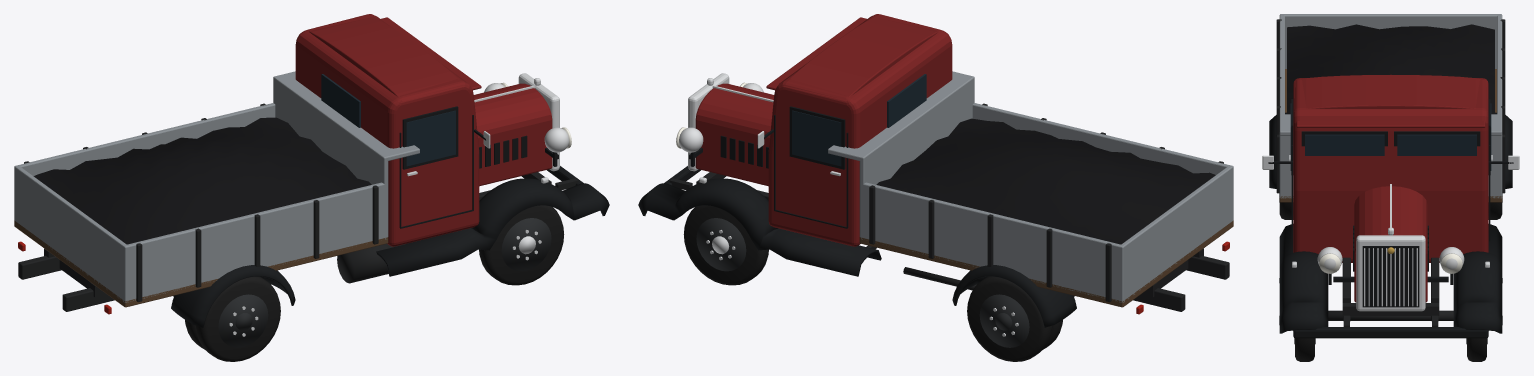
The model's file is balogh_coal_truck.glb.
3 views of the same model, side by side, from view 1: azimuth 30°, elevation 25°; view 2: azimuth 150°, elevation 25°; view 3: azimuth 270°, elevation 25° (orthographic).
Visible parts, largest first — view 1: monte_carga, cabine, lateral.001, paralama_d.001, tampa, teto_abaulado, capo, frente_cac, lateral, roda_t_pneu0.001, roda_d_pneu0.001, paralama_t.001 (+13 smaller); view 2: monte_carga, cabine, lateral, paralama_d, tampa, teto_abaulado, capo, frente_cac, lateral.001, roda_t_pneu1, roda_d_pneu0, paralama_t (+12 smaller); view 3: cabine, monte_carga, teto_abaulado, paralama_d, paralama_d.001, capo, radiador_colmeia, tampa, para_choque, radiador_moldura, parabrisa, parabrisa.001 (+25 smaller).
Boxes of the visible parts, bbox=[...] form: monte_carga: bbox=[33, 117, 371, 244]; cabine: bbox=[295, 14, 479, 246]; lateral.001: bbox=[123, 182, 388, 302]; paralama_d.001: bbox=[376, 178, 609, 276]; tampa: bbox=[14, 166, 128, 302]; teto_abaulado: bbox=[308, 16, 464, 101]; capo: bbox=[473, 83, 552, 186]; frente_cac: bbox=[273, 80, 388, 239]; lateral: bbox=[14, 103, 275, 221]; roda_t_pneu0.001: bbox=[195, 276, 280, 361]; roda_d_pneu0.001: bbox=[479, 205, 564, 285]; paralama_t.001: bbox=[171, 265, 295, 327]; monte_carga: bbox=[876, 118, 1215, 244]; cabine: bbox=[768, 14, 952, 246]; lateral: bbox=[859, 182, 1124, 302]; paralama_d: bbox=[638, 178, 881, 276]; tampa: bbox=[1119, 166, 1233, 302]; teto_abaulado: bbox=[783, 16, 939, 101]; capo: bbox=[695, 83, 774, 186]; frente_cac: bbox=[859, 80, 974, 239]; lateral.001: bbox=[972, 103, 1233, 174]; roda_t_pneu1: bbox=[967, 276, 1052, 361]; roda_d_pneu0: bbox=[683, 205, 768, 285]; paralama_t: bbox=[952, 265, 1076, 327]; cabine: bbox=[1293, 78, 1488, 262]; monte_carga: bbox=[1287, 24, 1494, 114]; teto_abaulado: bbox=[1294, 74, 1487, 111]; paralama_d: bbox=[1453, 224, 1502, 333]; paralama_d.001: bbox=[1279, 224, 1328, 333]; capo: bbox=[1354, 186, 1427, 302]; radiador_colmeia: bbox=[1362, 246, 1419, 307]; tampa: bbox=[1280, 14, 1501, 68]; para_choque: bbox=[1293, 327, 1488, 338]; radiador_moldura: bbox=[1356, 235, 1425, 311]; parabrisa: bbox=[1397, 134, 1476, 155]; parabrisa.001: bbox=[1305, 134, 1384, 155].
Bounding box in the file's own units: 5.69 × 2.34 × 2.45.
